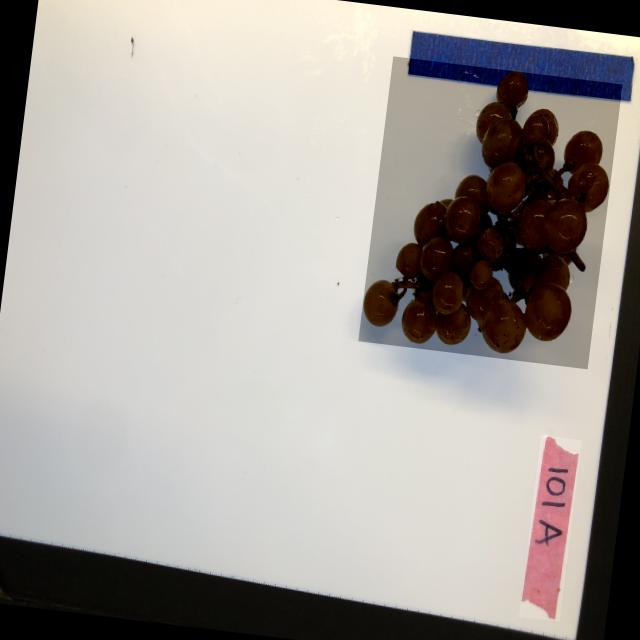grape_cluster: (357, 56, 621, 369)
index: (518, 434, 580, 622)
measure_label: (404, 29, 636, 104)
